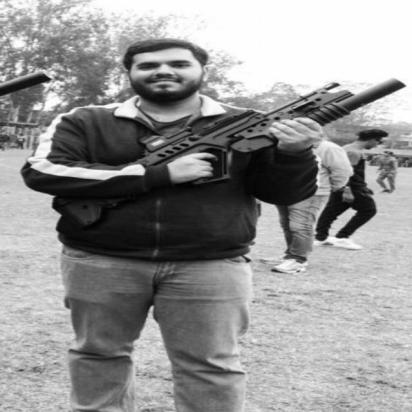Gun: (49, 76, 408, 230)
